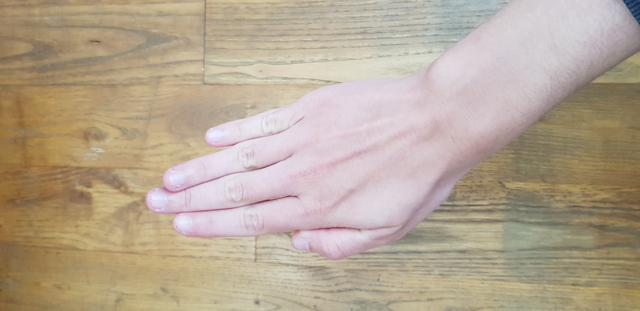Paper: (113, 73, 472, 285)
